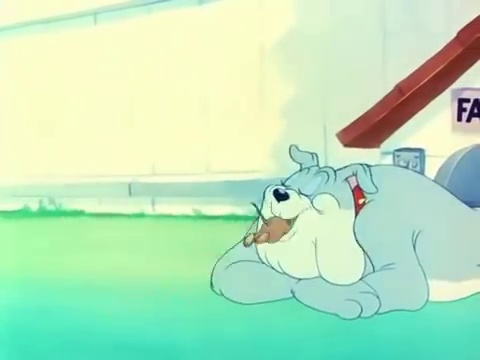spike: (237, 142, 379, 288)
